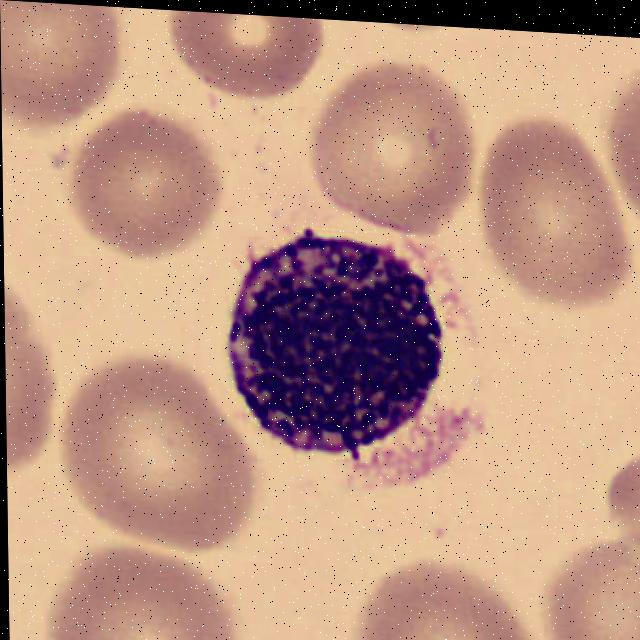basophil: (223, 236, 446, 458)
rbc: (58, 349, 260, 565), (482, 112, 618, 298), (319, 75, 474, 237), (69, 111, 224, 253), (31, 552, 232, 640), (157, 9, 328, 99), (345, 560, 532, 640), (0, 0, 110, 135), (547, 539, 640, 640), (602, 45, 640, 274), (606, 454, 640, 541)
